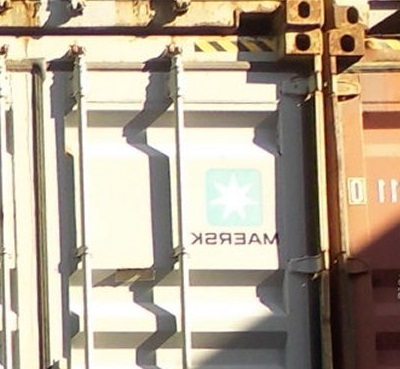container_door: (3, 33, 340, 369)
